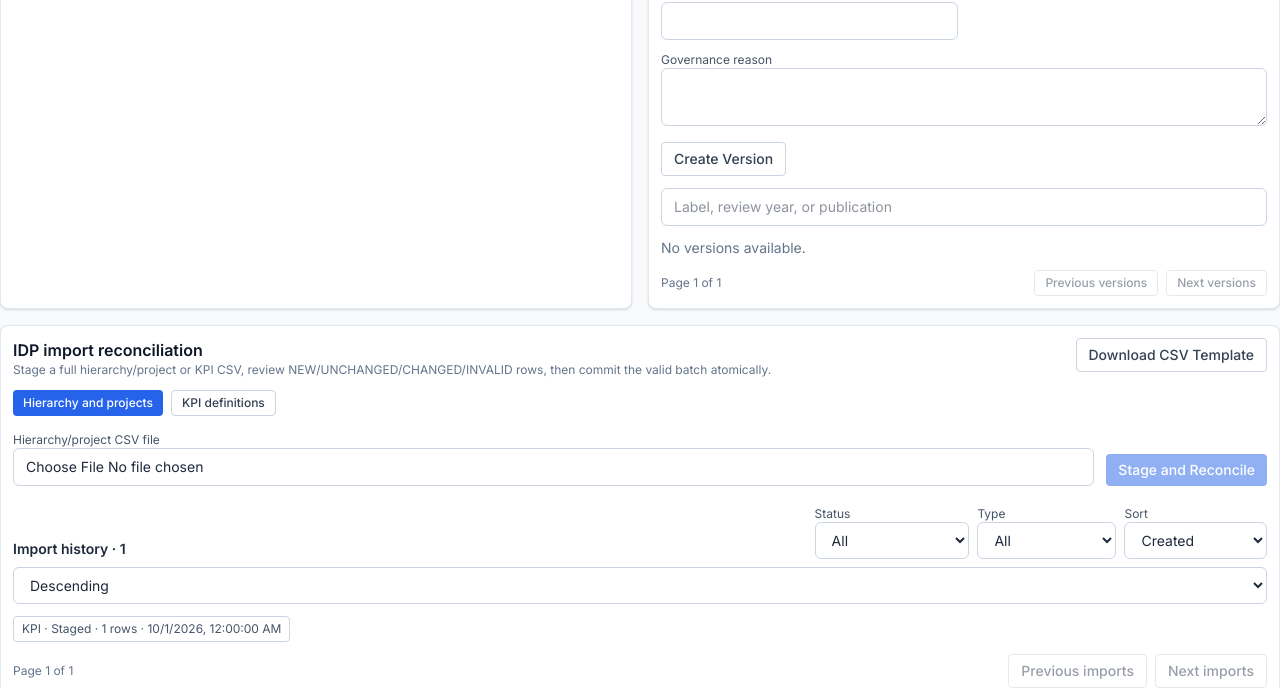
Test case: IDP plan lineage workspace › fails closed against hostile IDP import metadata and diagnostic payloads
(page scrolled)
Step 1. Click the button "KPI · Staged · 1 rows · 10/1/2026, 12:00:00 AM" → (152,629), box [13,616,290,642]
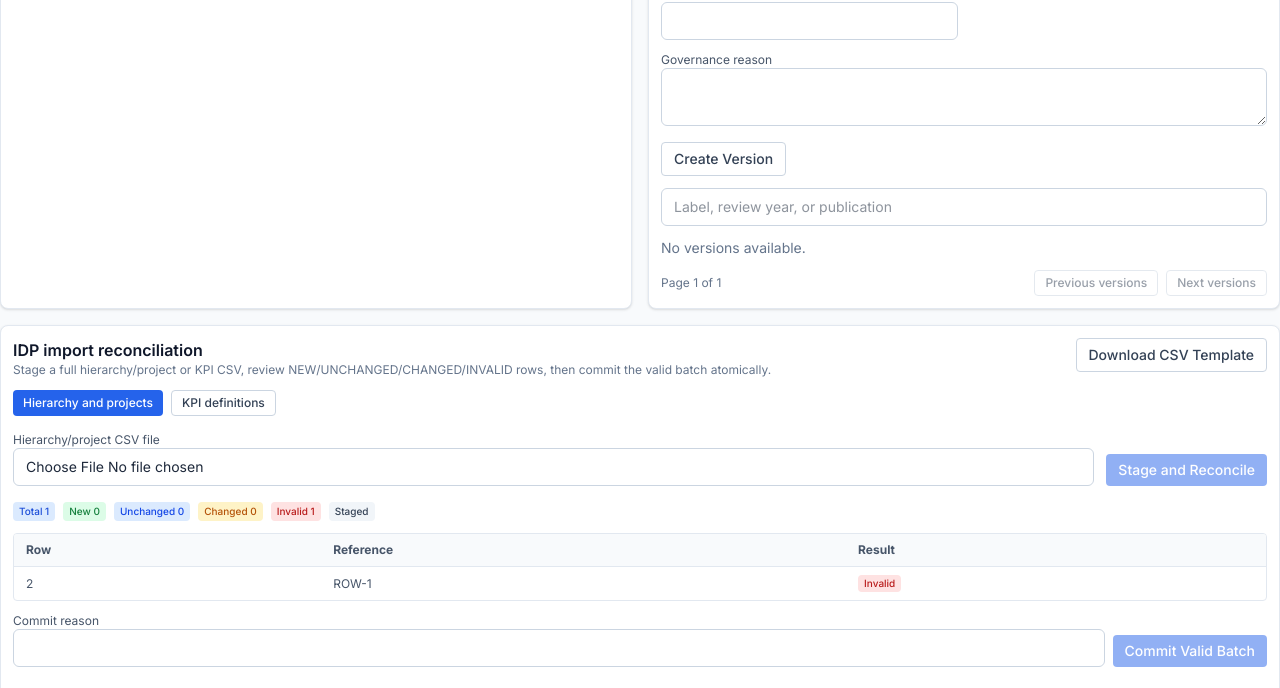
Now the text "ROW-1" is shown, box [321,566,846,600]
